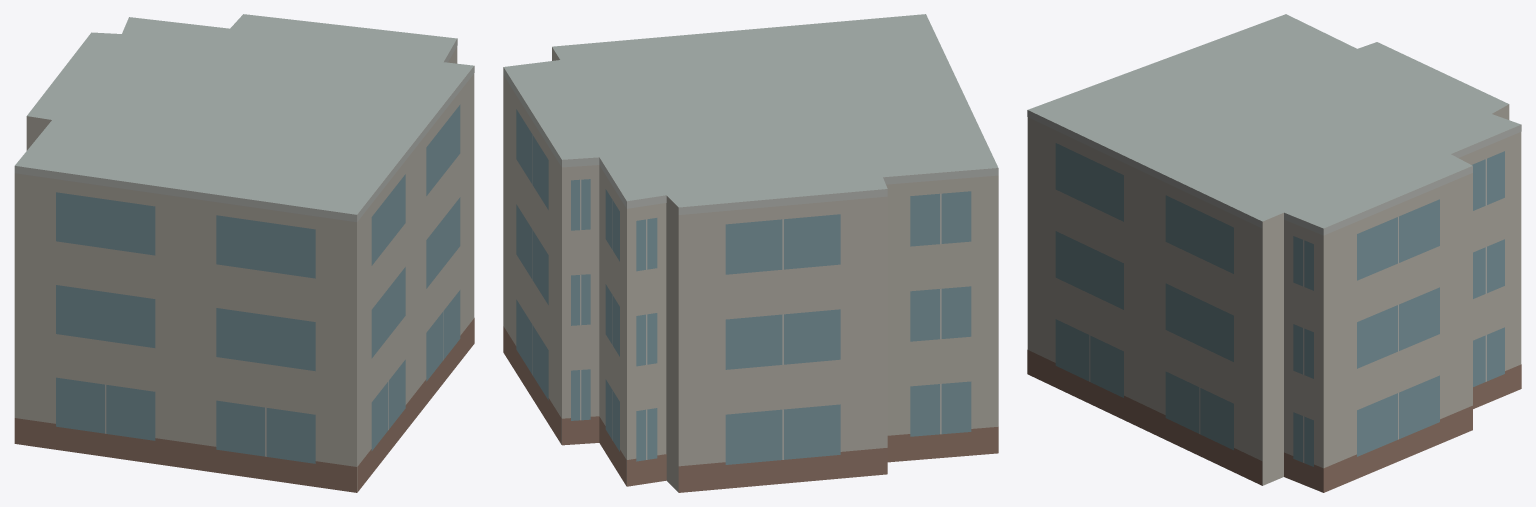
File: survey-upis-32992919.glb
3 views of the same model, side by side, from view 1: azimuth 30°, elevation 25°; view 2: azimuth 150°, elevation 25°; view 3: azimuth 270°, elevation 25° (orthographic). The views are drawn at different scales.
Parts seen in each view (by area): view 1: survey-upis-32992919.tmp; view 2: survey-upis-32992919.tmp; view 3: survey-upis-32992919.tmp.
Part boxes in pixels (box(x1,y1,x2,y2)): survey-upis-32992919.tmp: box(14, 14, 474, 492); survey-upis-32992919.tmp: box(503, 14, 998, 492); survey-upis-32992919.tmp: box(1027, 14, 1521, 492).
Bounding box in the file's own units: 15.94 × 9.15 × 15.51.
